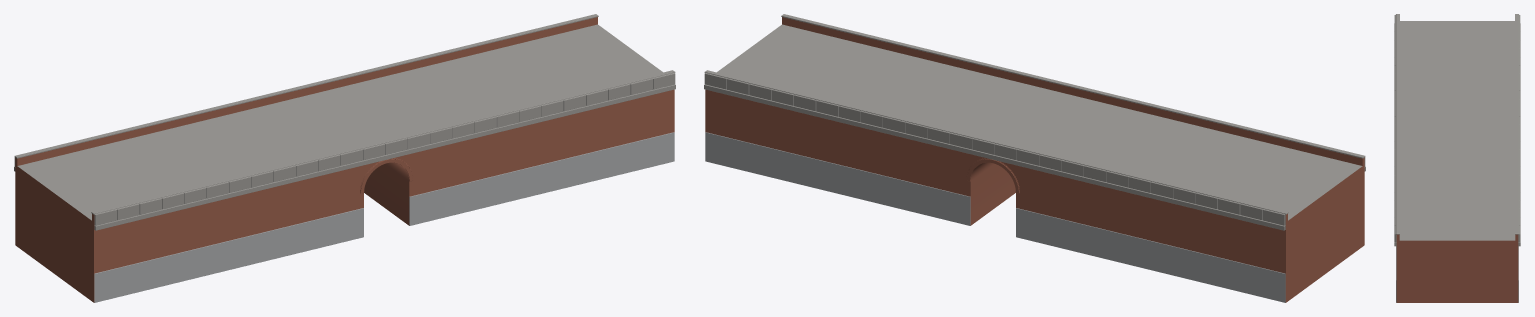
File: engeland.glb
3 views of the same model, side by side, from view 1: azimuth 30°, elevation 25°; view 2: azimuth 150°, elevation 25°; view 3: azimuth 270°, elevation 25° (orthographic). The views are drawn at different scales.
Parts seen in each view (by area): view 1: engeland; view 2: engeland; view 3: engeland.
Part boxes in pixels (bbox=[...]): engeland: bbox=[14, 14, 675, 302]; engeland: bbox=[704, 14, 1365, 302]; engeland: bbox=[1394, 14, 1520, 302].
Size of the model in its own units: 61.5 by 9.04 by 14.96.
